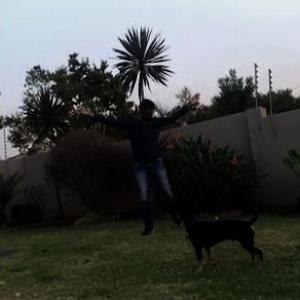takeoff: (75, 90, 202, 226)
